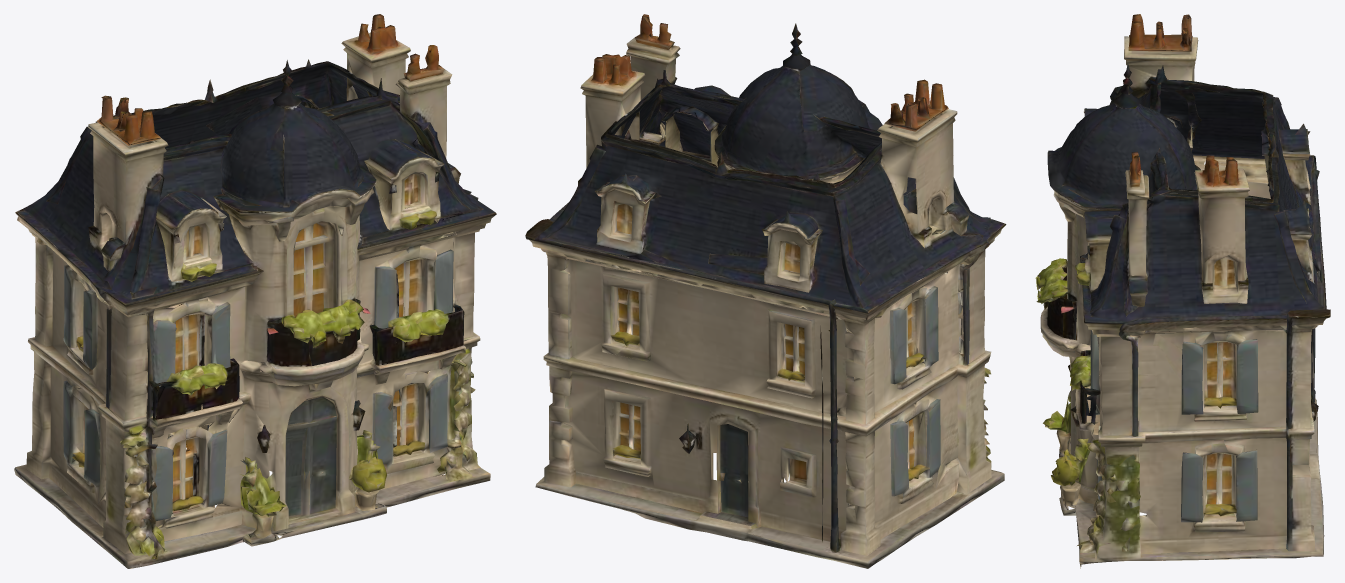
File: candidate.glb
3 renders of one model, left to right at view 1: azimuth 30°, elevation 25°; view 2: azimuth 150°, elevation 25°; view 3: azimuth 270°, elevation 25°, orthographic. The views are drawn at different scales.
Visible parts, largest first — view 1: classic__tower_2__native_mobile; view 2: classic__tower_2__native_mobile; view 3: classic__tower_2__native_mobile.
Boxes of the visible parts, left/top/right/bottom form: classic__tower_2__native_mobile: left=14, top=14, right=496, bottom=568; classic__tower_2__native_mobile: left=525, top=14, right=1006, bottom=568; classic__tower_2__native_mobile: left=1035, top=14, right=1330, bottom=568.
Size of the model in its own units: 0.8953 by 1 by 0.6313.
Materials: 1 (1 with a texture image).
